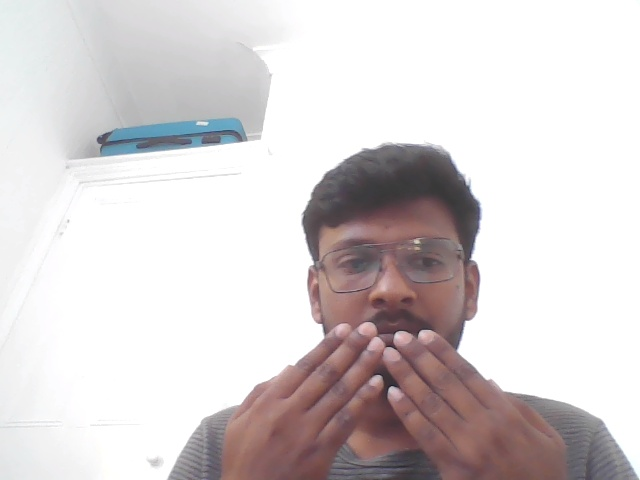Thank You: (184, 298, 591, 480)
